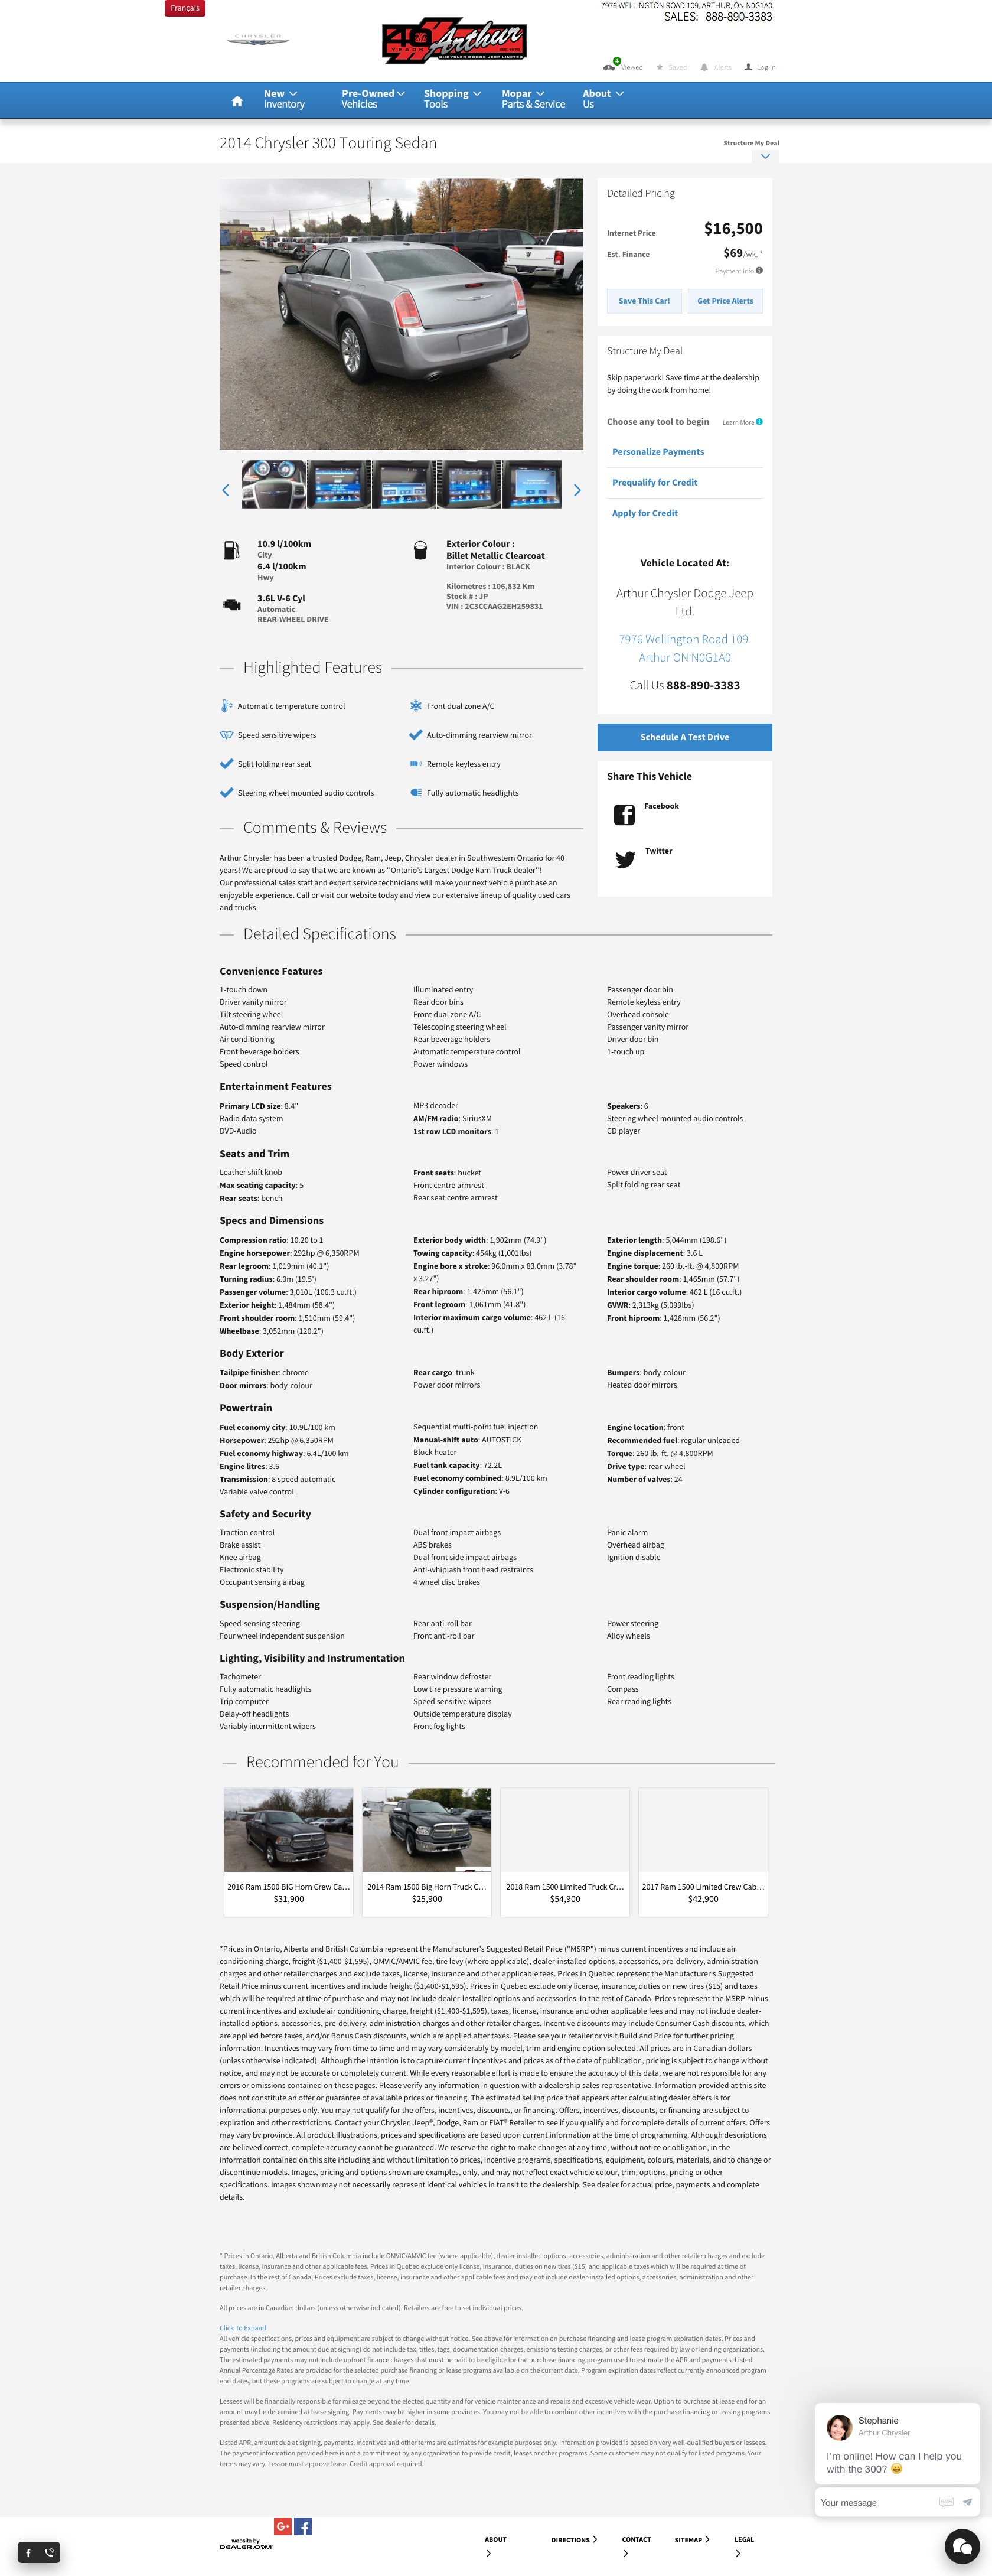car: (573, 483, 581, 498)
